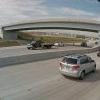Bridge: (6, 12, 98, 39)
